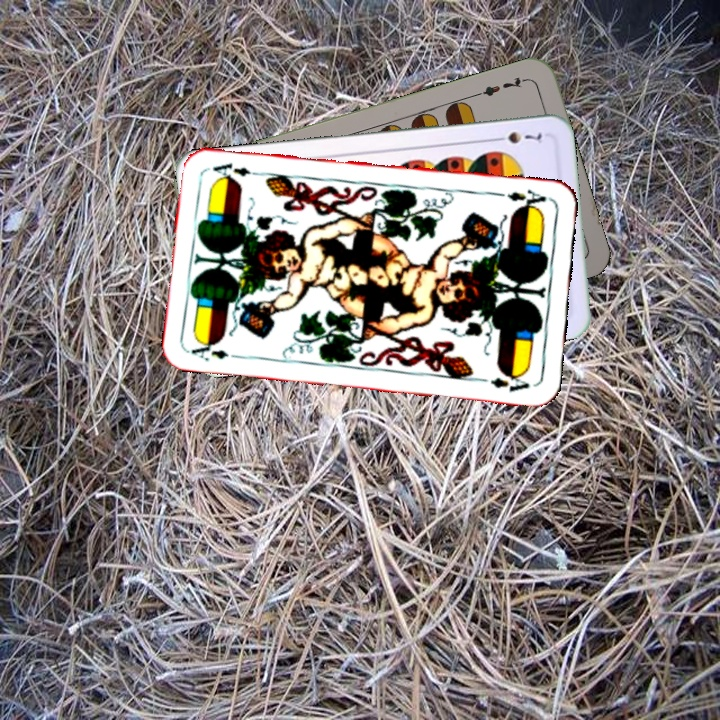E7: (473, 73, 530, 99)
EA: (187, 336, 245, 364), (503, 185, 548, 213)
S7: (489, 127, 547, 147)
